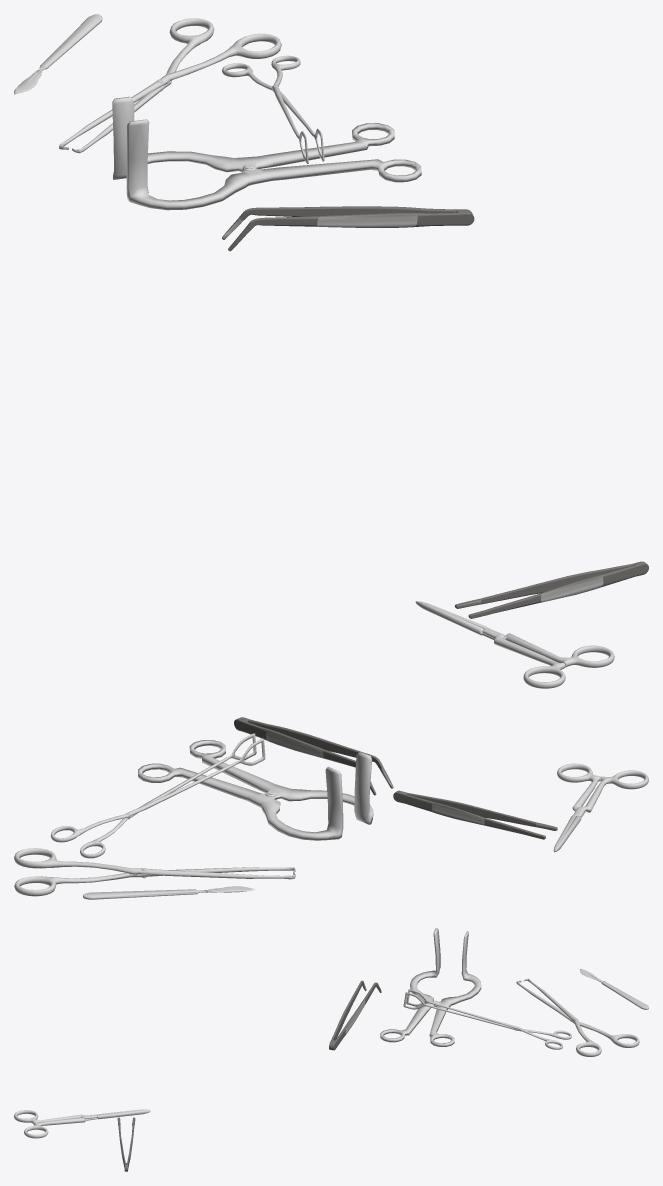
Rendered from objet_divers_medical_1.fbx.
3 views of the same model, one above another, from view 1: azimuth 30°, elevation 25°; view 2: azimuth 150°, elevation 25°; view 3: azimuth 270°, elevation 25° (orthographic). The views are drawn at different scales.
Parts seen in each view (by area): view 1: pince_01:polySurface1, pincette_01:polySurface1, ciseaux_01:polySurface1, pincette_02:polySurface1, ciseaux_02:polySurface1, pince_02:polySurface1, scalpel:Box02; view 2: pince_01:polySurface1, ciseaux_01:polySurface1, pincette_01:polySurface1, pince_02:polySurface1, pincette_02:polySurface1, ciseaux_02:polySurface1, scalpel:Box02; view 3: pince_01:polySurface1, ciseaux_01:polySurface1, pince_02:polySurface1, ciseaux_02:polySurface1, pincette_01:polySurface1, scalpel:Box02.
Part boxes in pixels (<box>): pince_01:polySurface1: <box>112,96,421,210</box>; pincette_01:polySurface1: <box>222,206,474,251</box>; ciseaux_01:polySurface1: <box>59,18,281,153</box>; pincette_02:polySurface1: <box>454,561,648,618</box>; ciseaux_02:polySurface1: <box>415,601,614,688</box>; pince_02:polySurface1: <box>222,55,324,163</box>; scalpel:Box02: <box>14,14,102,94</box>; pince_01:polySurface1: <box>138,740,373,840</box>; ciseaux_01:polySurface1: <box>14,848,295,896</box>; pincette_01:polySurface1: <box>234,717,393,795</box>; pince_02:polySurface1: <box>50,733,265,858</box>; pincette_02:polySurface1: <box>393,790,557,839</box>; ciseaux_02:polySurface1: <box>553,763,648,852</box>; scalpel:Box02: <box>83,886,255,899</box>; pince_01:polySurface1: <box>380,928,481,1046</box>; ciseaux_01:polySurface1: <box>516,978,639,1056</box>; pince_02:polySurface1: <box>403,989,571,1049</box>; ciseaux_02:polySurface1: <box>14,1109,150,1138</box>; pincette_01:polySurface1: <box>329,980,381,1050</box>; scalpel:Box02: <box>580,969,648,1009</box>.
Size of the model in its own units: 43.05 by 44.99 by 146.
